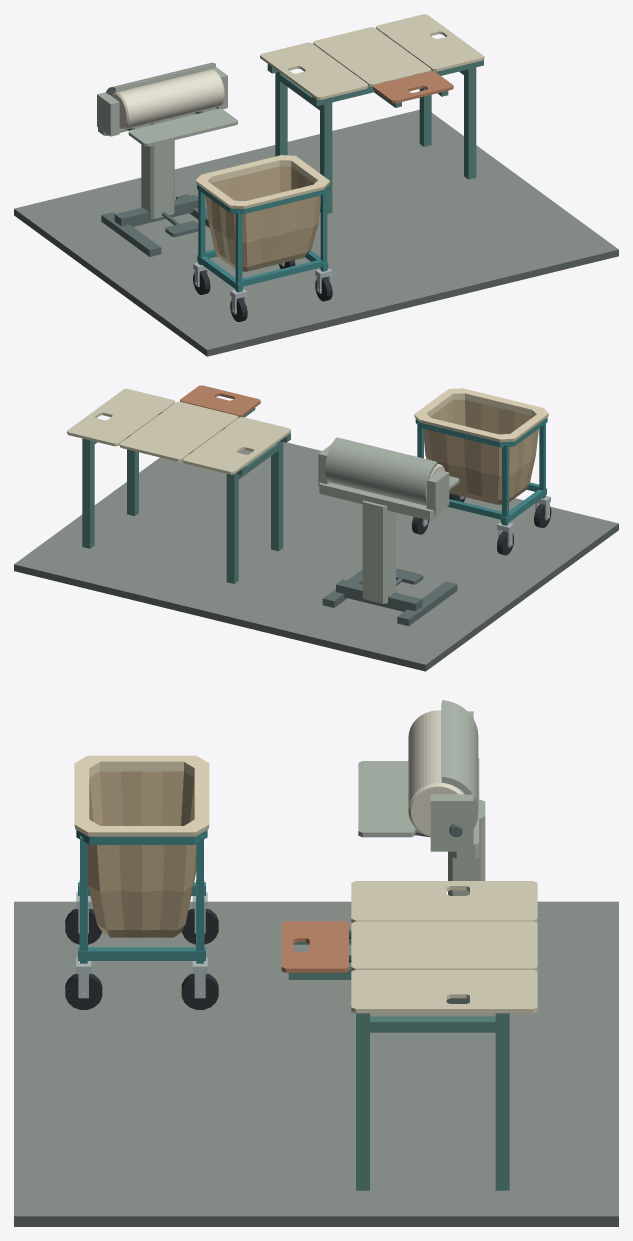
3 views of the same model, one above another, from view 1: azimuth 30°, elevation 25°; view 2: azimuth 150°, elevation 25°; view 3: azimuth 270°, elevation 25° (orthographic). The views are drawn at different scales.
Parts seen in each view (by area): view 1: SCENE_ONLY__DisplayFloor, cart__Hamper_ContinuousThickFabric, ironer__WholeBroadPaddedCylinder, table__CentralFoldingBoard, table__LeftSlottedFoldingWing, table__RightSlottedFoldingWing, ironer__WholeRearOffsetPedestal, ironer__WholeWideFrontFeedBoard, table__FrontSlottedFoldingFlap, table__RightFrontGroundedLeg, table__LeftFrontGroundedLeg, ironer__WholeLowerCrossTie (+12 smaller); view 2: SCENE_ONLY__DisplayFloor, cart__Hamper_ContinuousThickFabric, ironer__WholeOpenRearConcaveShoeShell, table__CentralFoldingBoard, table__LeftSlottedFoldingWing, ironer__WholeRearOffsetPedestal, table__RightSlottedFoldingWing, ironer__WholeUpperSupportCrosshead, table__FrontSlottedFoldingFlap, table__LeftRearGroundedLeg, table__RightRearGroundedLeg, table__LeftFrontGroundedLeg (+10 smaller); view 3: SCENE_ONLY__DisplayFloor, cart__Hamper_ContinuousThickFabric, table__CentralFoldingBoard, table__RightSlottedFoldingWing, table__LeftSlottedFoldingWing, ironer__WholeWideFrontFeedBoard, ironer__WholeBroadPaddedCylinder, table__FrontSlottedFoldingFlap, ironer__WholeOpenRearConcaveShoeShell, table__RightRearGroundedLeg, ironer__WholeShortAxleSeat1, table__RightFrontGroundedLeg (+10 smaller).
Boxes of the visible parts, x1,y1,x2,y2 form: SCENE_ONLY__DisplayFloor: (14,109,618,356); cart__Hamper_ContinuousThickFabric: (195,155,330,271); ironer__WholeBroadPaddedCylinder: (111,69,224,129); table__CentralFoldingBoard: (313,27,431,86); table__LeftSlottedFoldingWing: (260,42,368,99); table__RightSlottedFoldingWing: (376,14,484,71); ironer__WholeRearOffsetPedestal: (141,117,174,218); ironer__WholeWideFrontFeedBoard: (128,108,237,146); table__FrontSlottedFoldingFlap: (373,71,453,103); table__RightFrontGroundedLeg: (464,67,476,179); table__LeftFrontGroundedLeg: (320,102,332,213); ironer__WholeLowerCrossTie: (114,194,198,226); SCENE_ONLY__DisplayFloor: (14,442,618,671); cart__Hamper_ContinuousThickFabric: (414,388,548,504); ironer__WholeOpenRearConcaveShoeShell: (325,437,437,505); table__CentralFoldingBoard: (120,401,238,461); table__LeftSlottedFoldingWing: (183,417,290,474); ironer__WholeRearOffsetPedestal: (362,500,395,603); table__RightSlottedFoldingWing: (67,389,175,446); ironer__WholeUpperSupportCrosshead: (319,482,439,520); table__FrontSlottedFoldingFlap: (180,385,260,417); table__LeftRearGroundedLeg: (226,474,238,583); table__RightRearGroundedLeg: (82,438,94,548); table__LeftFrontGroundedLeg: (271,441,283,551); SCENE_ONLY__DisplayFloor: (14,901,618,1226); cart__Hamper_ContinuousThickFabric: (74,755,209,937); table__CentralFoldingBoard: (351,921,537,971); table__RightSlottedFoldingWing: (351,969,537,1013); table__LeftSlottedFoldingWing: (351,881,537,922); ironer__WholeWideFrontFeedBoard: (358,761,415,837); ironer__WholeBroadPaddedCylinder: (408,710,464,836); table__FrontSlottedFoldingFlap: (281,921,348,972); ironer__WholeOpenRearConcaveShoeShell: (441,700,478,828); table__RightRearGroundedLeg: (495,1023,509,1190); ironer__WholeShortAxleSeat1: (430,794,473,851); table__RightFrontGroundedLeg: (356,1023,369,1190).
Size of the model in its own units: 3.2 by 1.17 by 2.6.
